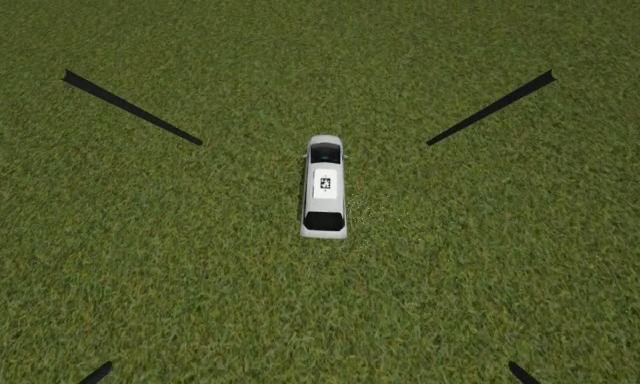Car: (302, 134, 348, 242)
Landing Pad: (314, 168, 339, 199)
